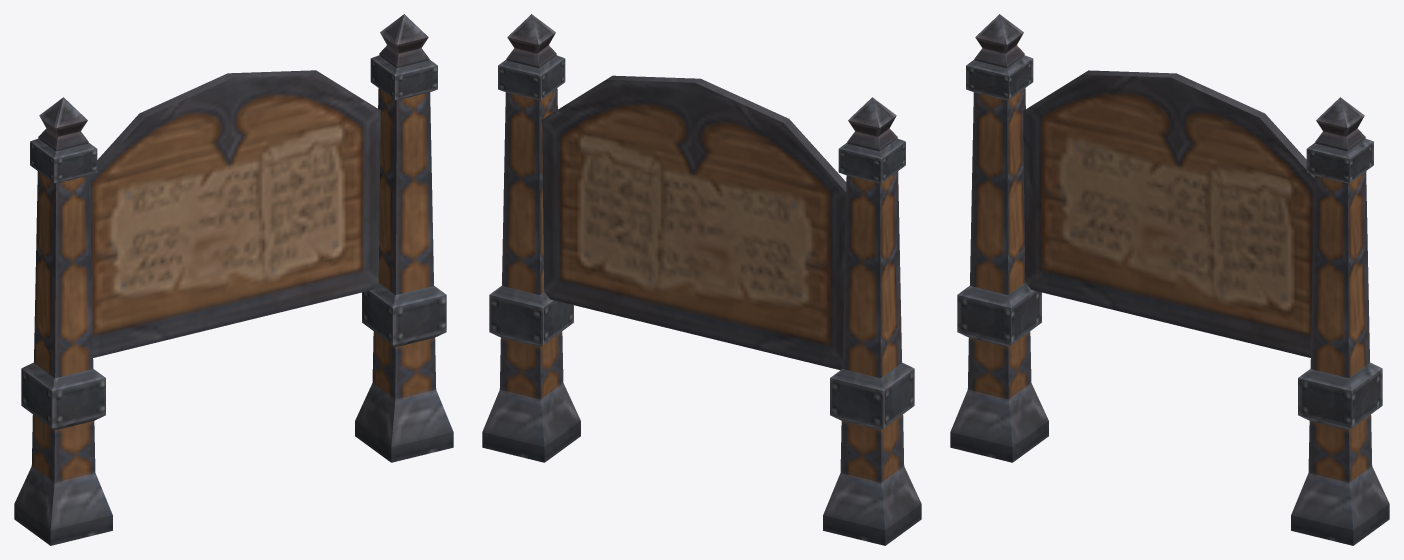
Rendered from notice_board_2.FBX.
The picture shows the model from 3 angles, left to right: view 1: azimuth 30°, elevation 25°; view 2: azimuth 150°, elevation 25°; view 3: azimuth 330°, elevation 25°; orthographic projection.
Visible parts, largest first — view 1: Object137; view 2: Object137; view 3: Object137.
Part boxes in pixels (<box>): Object137: <box>14,14,453,545</box>; Object137: <box>482,14,921,545</box>; Object137: <box>950,14,1389,545</box>.
Bounding box in the file's own units: 1.14 × 1.16 × 0.1782.
